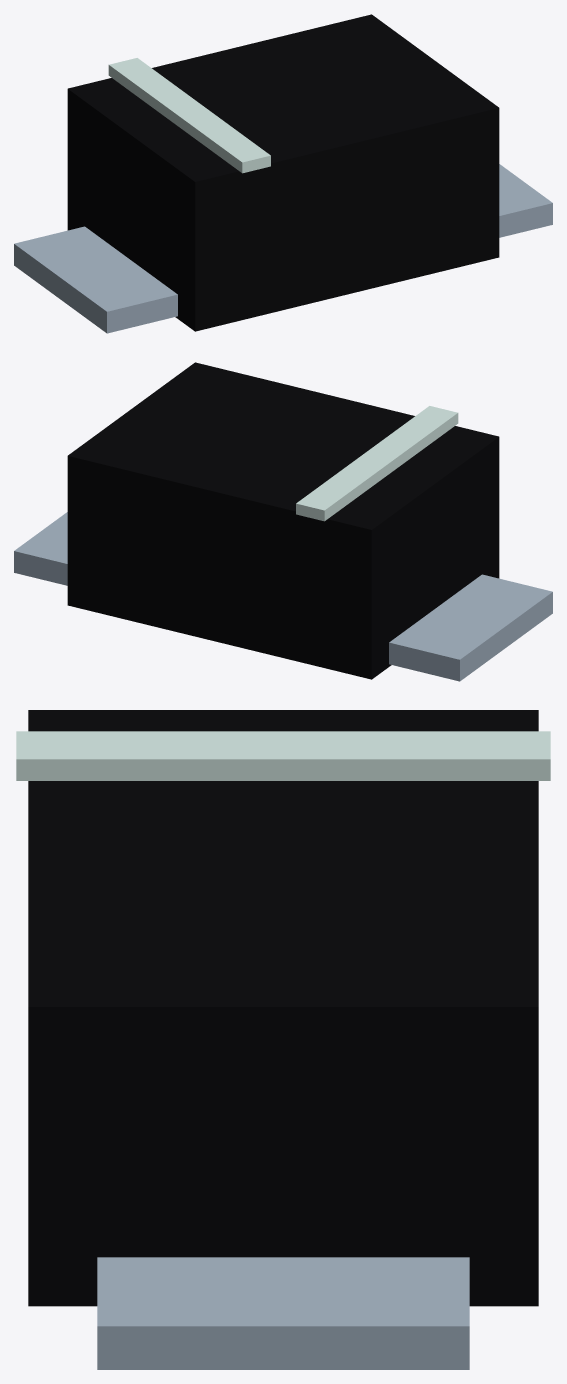
Rendered from 44_L96_D1_Diode.fbx.
3 renders of one model, top to bottom at view 1: azimuth 30°, elevation 25°; view 2: azimuth 150°, elevation 25°; view 3: azimuth 270°, elevation 25°, orthographic. The views are drawn at different scales.
Visible parts, largest first — view 1: D1_000_Diode_Body, D1_002_Solder_Contact, D1_001_Cathode_Band, D1_003_Solder_Contact; view 2: D1_000_Diode_Body, D1_002_Solder_Contact, D1_001_Cathode_Band, D1_003_Solder_Contact; view 3: D1_000_Diode_Body, D1_003_Solder_Contact, D1_001_Cathode_Band.
Boxes of the visible parts, x1,y1,x2,y2 form: D1_000_Diode_Body: (67, 14, 499, 331); D1_002_Solder_Contact: (14, 226, 177, 333); D1_001_Cathode_Band: (108, 58, 270, 173); D1_003_Solder_Contact: (499, 164, 552, 237); D1_000_Diode_Body: (67, 362, 499, 679); D1_002_Solder_Contact: (389, 574, 552, 681); D1_001_Cathode_Band: (296, 406, 458, 521); D1_003_Solder_Contact: (14, 512, 67, 585); D1_000_Diode_Body: (28, 710, 538, 1306); D1_003_Solder_Contact: (97, 1257, 469, 1369); D1_001_Cathode_Band: (16, 731, 550, 780).
Size of the model in its own units: 0.00343 by 0.00118 by 0.00178.
